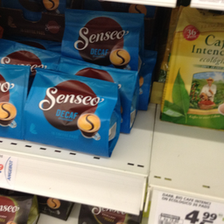coffee: (22, 68, 120, 158), (61, 6, 145, 70)
